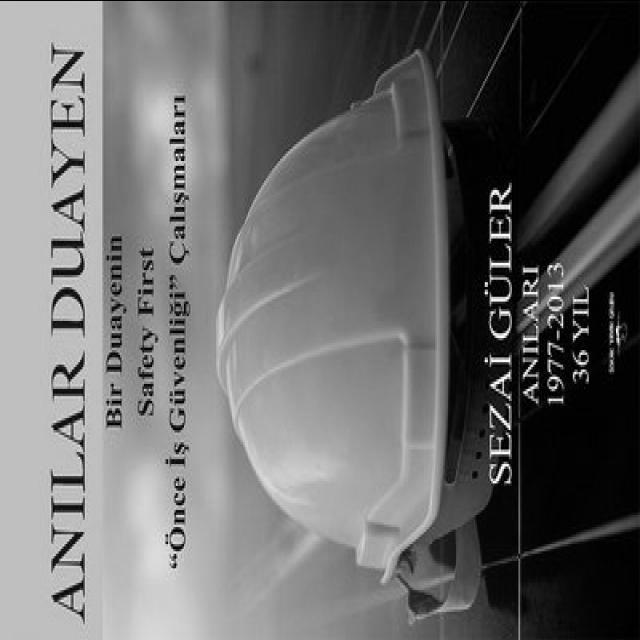construction helmet: (218, 46, 462, 584)
